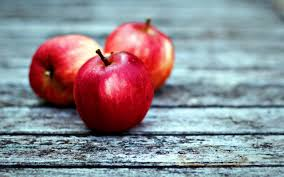apple: (76, 52, 150, 131), (30, 34, 105, 101)
